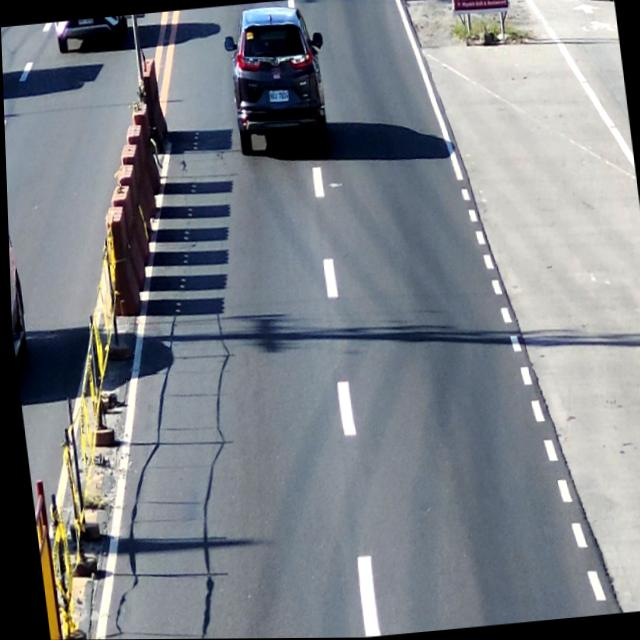Car: (222, 3, 328, 158)
License-Plate: (265, 86, 292, 106)
